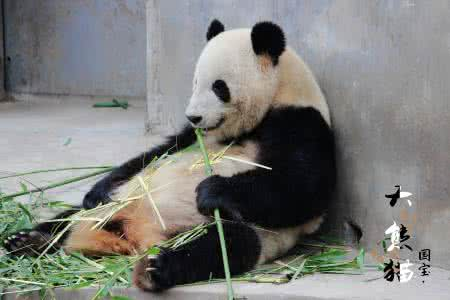panda: (2, 14, 340, 286)
